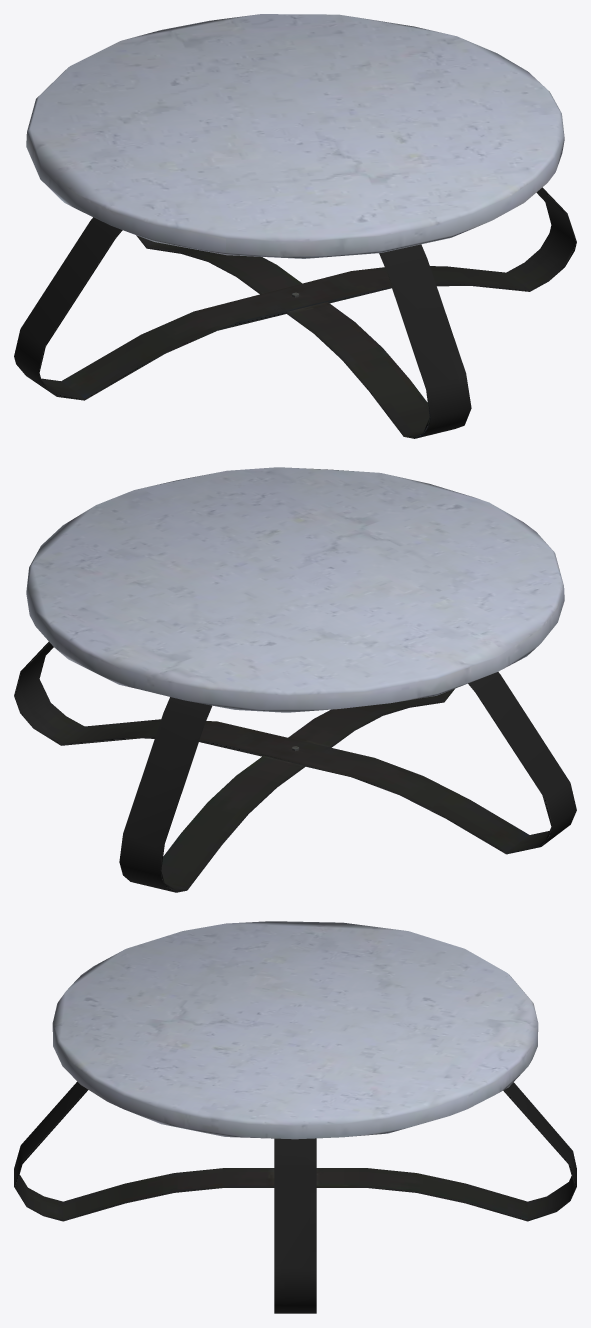
File: coffee_table_round_01.glb
The picture shows the model from 3 angles, top to bottom: view 1: azimuth 30°, elevation 25°; view 2: azimuth 150°, elevation 25°; view 3: azimuth 270°, elevation 25°; orthographic projection. The views are drawn at different scales.
Parts seen in each view (by area): view 1: coffee_table_round_01; view 2: coffee_table_round_01; view 3: coffee_table_round_01.
Boxes of the visible parts, x1,y1,x2,y2 form: coffee_table_round_01: (14, 14, 576, 438); coffee_table_round_01: (14, 467, 576, 892); coffee_table_round_01: (14, 921, 576, 1313).
Size of the model in its own units: 1.3 by 0.49 by 1.3.
1 material, 1 textured.
